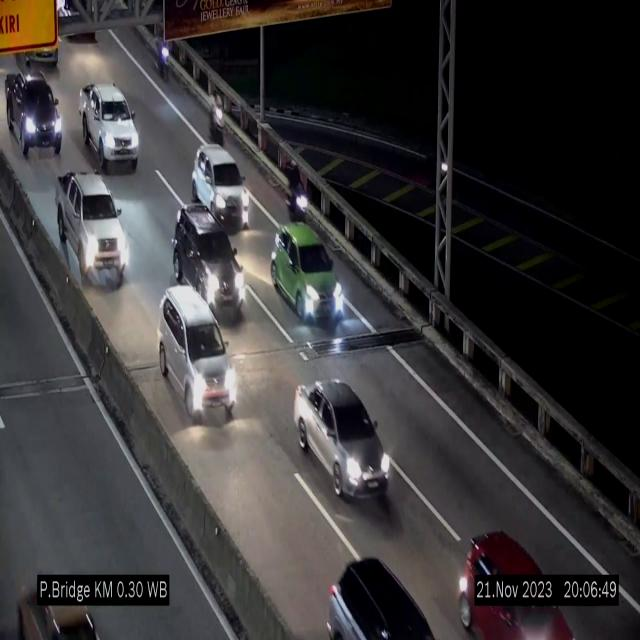Car: (457, 530, 578, 640), (294, 379, 392, 497), (318, 550, 438, 640), (160, 286, 238, 419), (172, 204, 248, 324), (268, 225, 348, 336), (55, 173, 129, 286), (4, 66, 66, 162), (80, 83, 139, 172), (192, 143, 249, 229)
Motorcycle: (210, 86, 230, 151), (287, 162, 307, 221), (158, 31, 174, 92)
